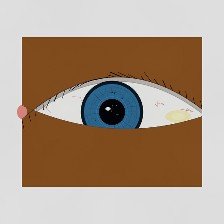pinguecula_lesion: (153, 96, 204, 137)
